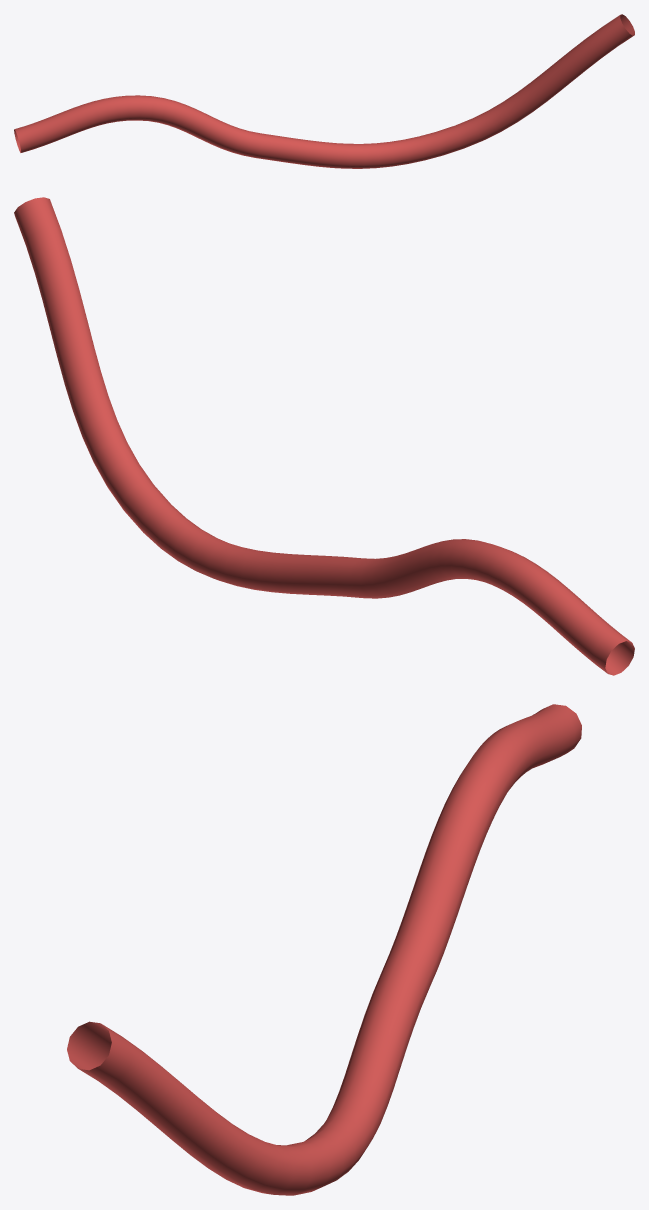
The picture shows the model from 3 angles, top to bottom: view 1: azimuth 30°, elevation 25°; view 2: azimuth 150°, elevation 25°; view 3: azimuth 270°, elevation 25°; orthographic projection. The views are drawn at different scales.
Visible parts, largest first — view 1: 左侧阴部外深动脉; view 2: 左侧阴部外深动脉; view 3: 左侧阴部外深动脉.
Part boxes in pixels (x1=…): 左侧阴部外深动脉: x1=14, y1=14, x2=634, y2=168; 左侧阴部外深动脉: x1=14, y1=197, x2=634, y2=675; 左侧阴部外深动脉: x1=67, y1=704, x2=581, y2=1195.
Size of the model in its own units: 0.0473 by 0.0137 by 0.0209.
